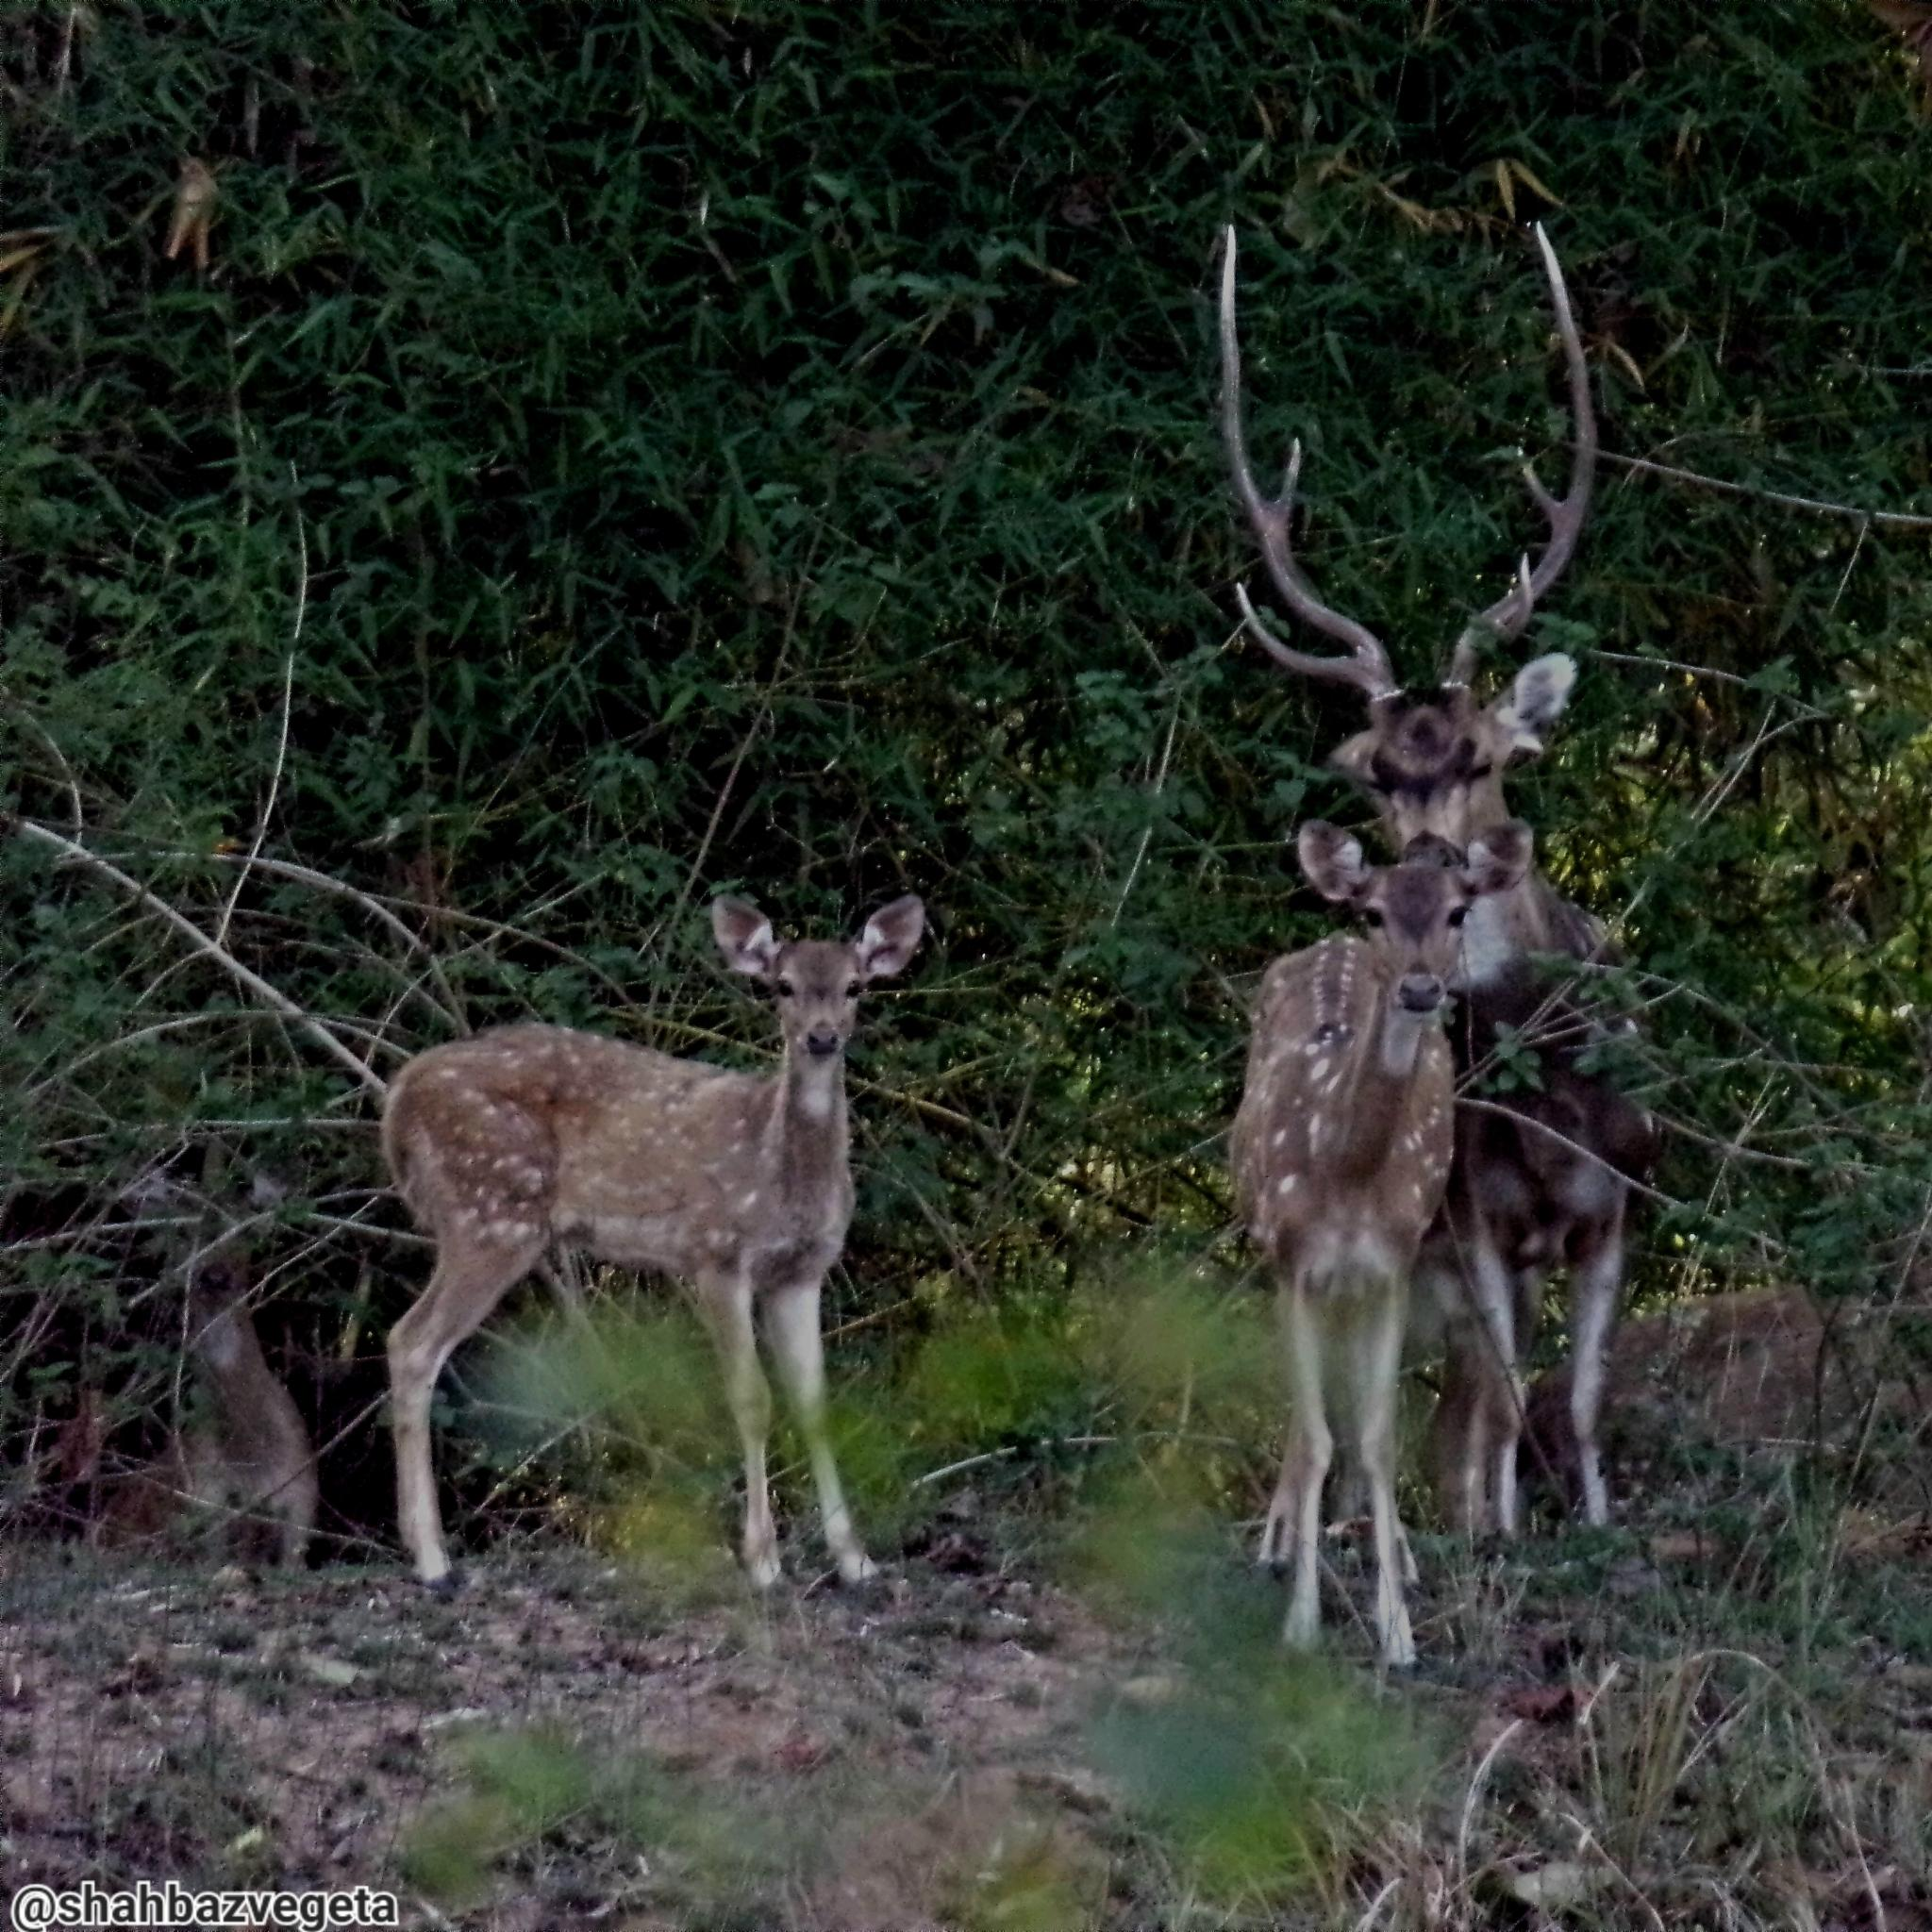Deer: (382, 897, 924, 1587), (1230, 821, 1530, 1665), (1217, 228, 1598, 849)
